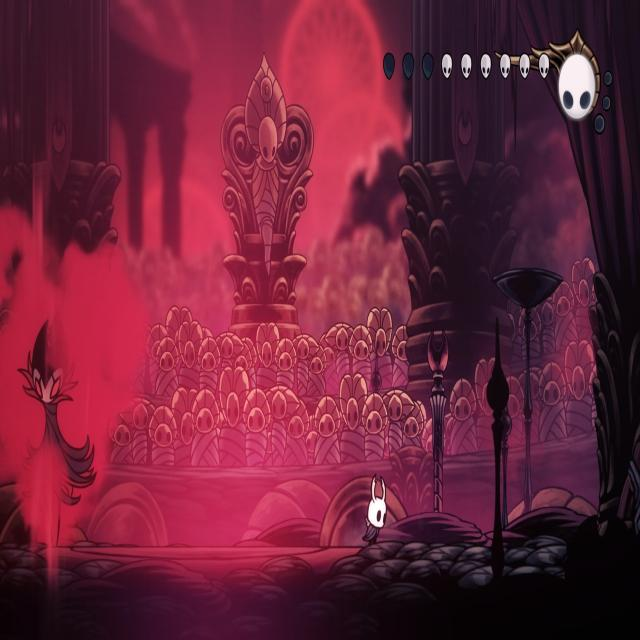Grimm: (16, 308, 99, 546)
Player: (359, 470, 387, 550)
